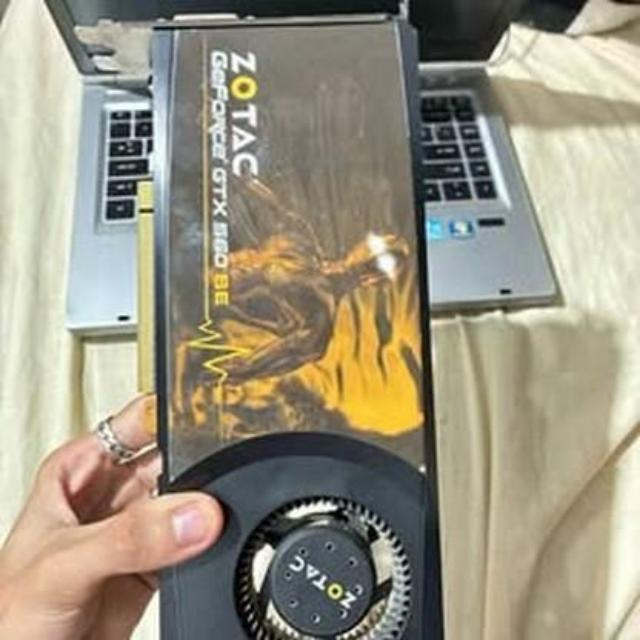GPU: (130, 15, 452, 640)
